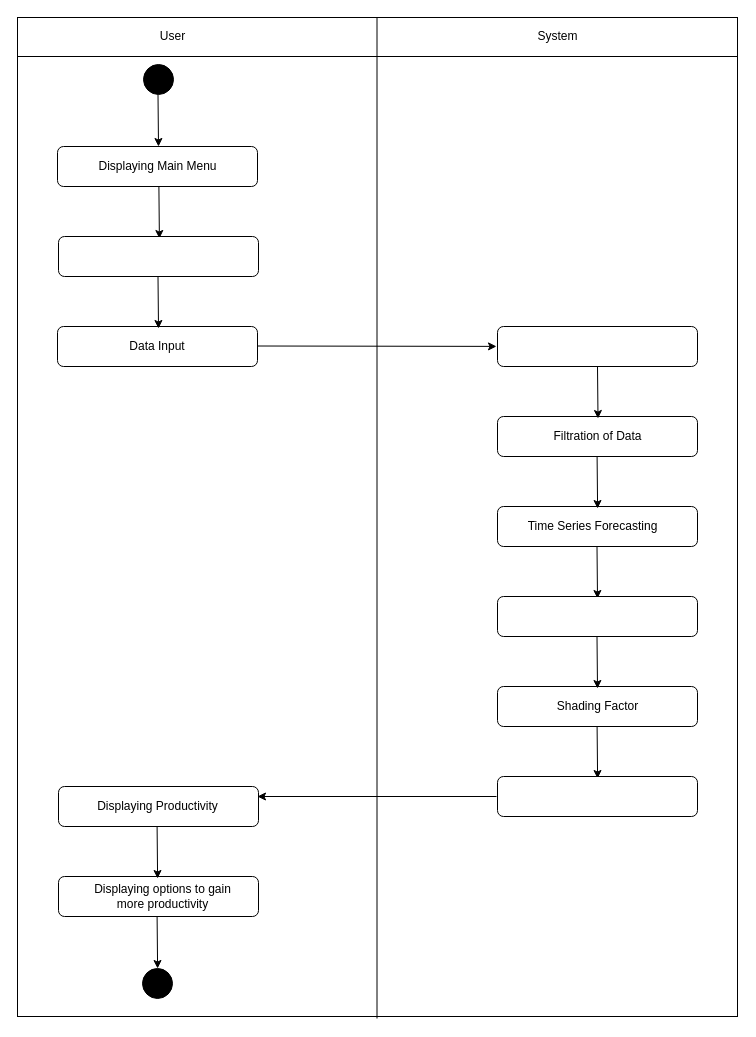
This 756x1037 diagram has some shape labels left out. Here are the shapes that lost their labels. From the top down, the centre of each, then its label:
At (158,256): "User login".
At (597,346): "Analyze Data".
At (597,616): "ARIMA Model".
At (597,796): "Predict Productivity".
